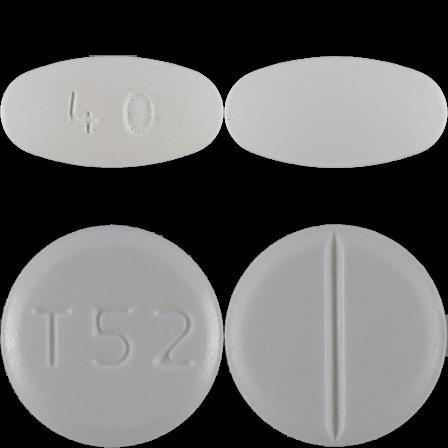69189-3952: (0, 0, 224, 224)
